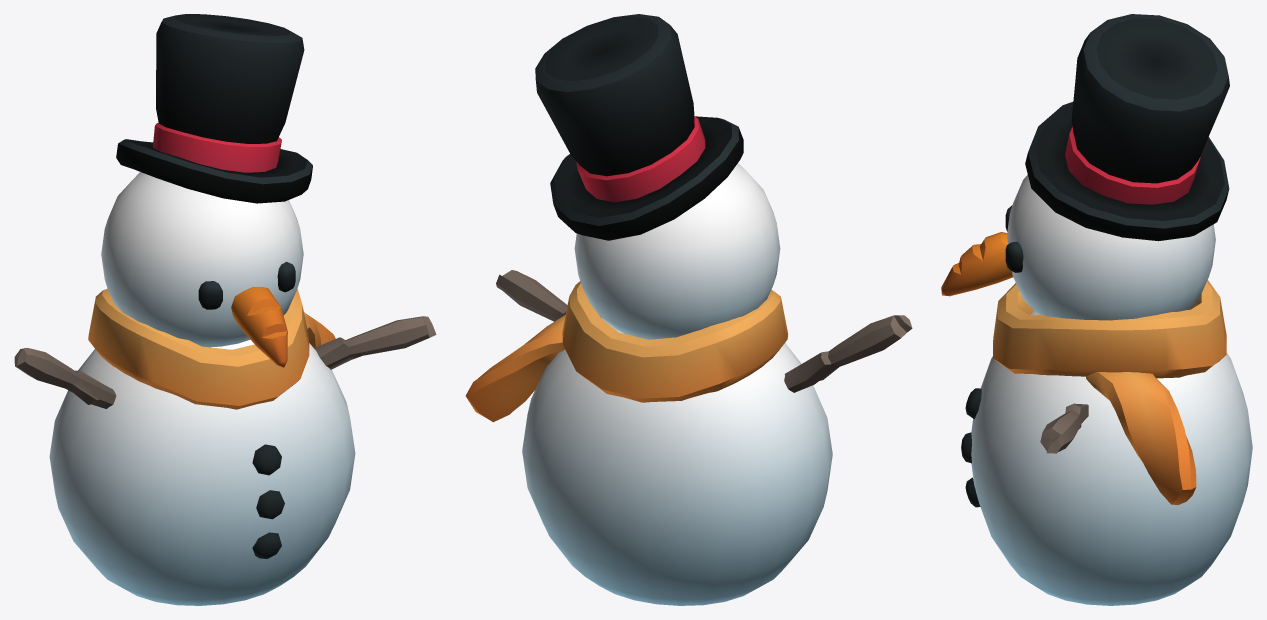
File: snowman_B.glb
The picture shows the model from 3 angles, left to right: view 1: azimuth 30°, elevation 25°; view 2: azimuth 150°, elevation 25°; view 3: azimuth 270°, elevation 25°; orthographic projection. The views are drawn at different scales.
Visible parts, largest first — view 1: snowman_B; view 2: snowman_B; view 3: snowman_B.
Part boxes in pixels (x1,y1,x2,y2): snowman_B: [14, 14, 436, 605]; snowman_B: [465, 14, 912, 605]; snowman_B: [941, 14, 1252, 605].
Size of the model in its own units: 2.17 by 2.7 by 1.37.
1 material, 1 textured.
